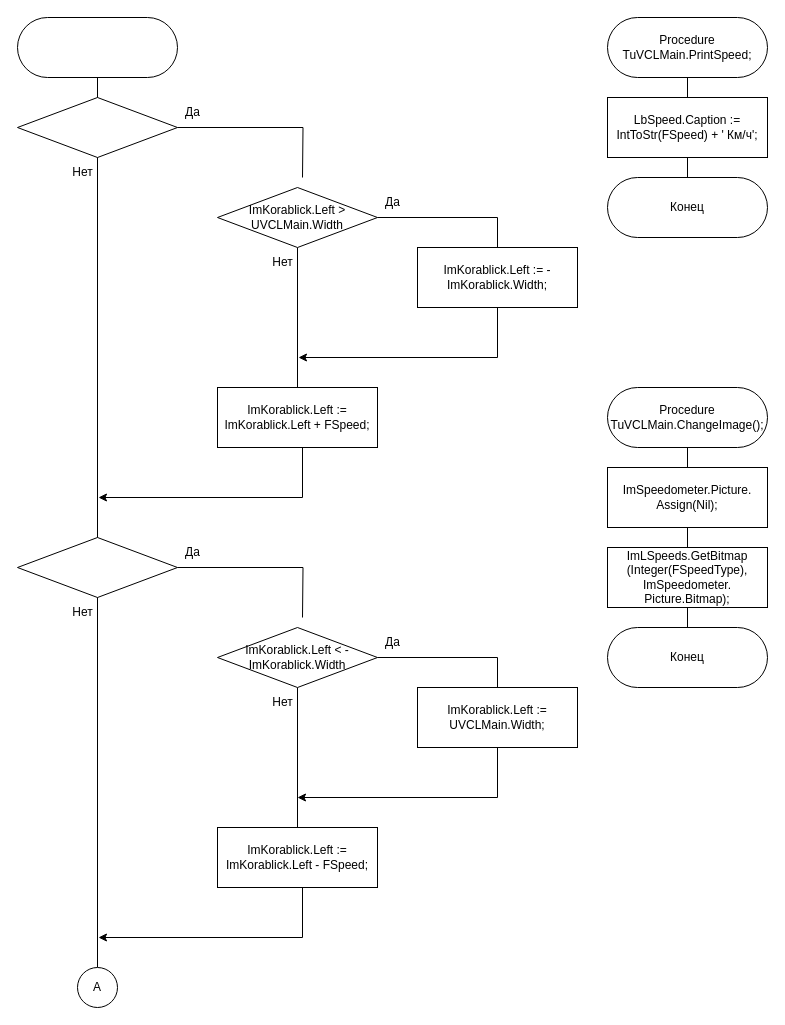
This 785x1025 diagram has some shape labels left out. Each missing label, with the box of its shape:
(Key In LEFT_KEYS): (16, 536, 178, 598)
(Key In RIGHT_KEYS): (16, 96, 178, 158)
Procedure TuVCLMain.FormKeyPress (Sender: TObject; Var Key: Char);: (16, 16, 178, 78)
